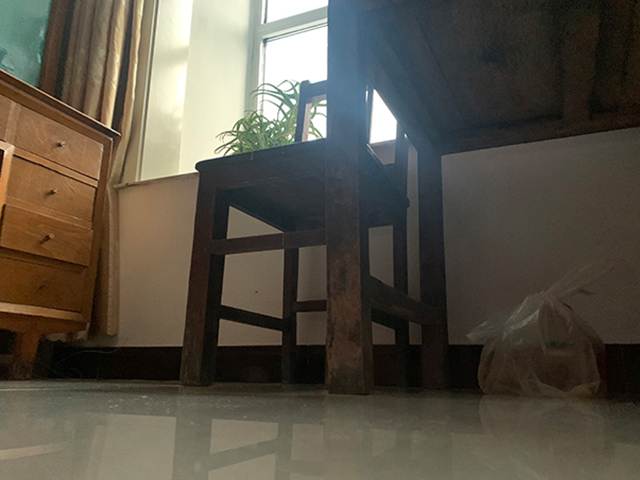cabinet: (1, 68, 121, 379)
curtain: (36, 1, 160, 343)
stool: (177, 80, 413, 390)
table: (325, 1, 640, 397)
wire: (38, 343, 120, 380)
